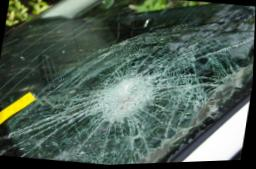Windshield: (0, 0, 256, 165)
